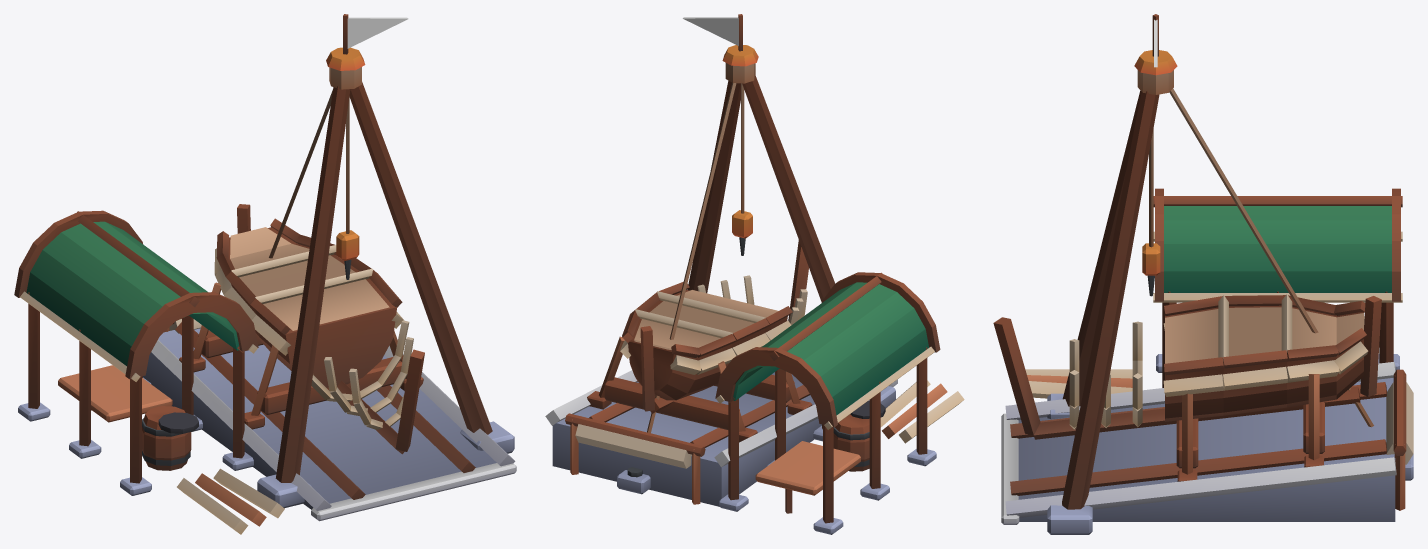
File: repairyard.glb
3 views of the same model, side by side, from view 1: azimuth 30°, elevation 25°; view 2: azimuth 150°, elevation 25°; view 3: azimuth 270°, elevation 25° (orthographic). The views are drawn at different scales.
Visible parts, largest first — view 1: body, flag; view 2: body, flag; view 3: body.
Part boxes in pixels (x1=…): body: x1=14, y1=14, x2=516, y2=534; flag: x1=347, y1=17, x2=408, y2=48; body: x1=545, y1=14, x2=964, y2=534; flag: x1=682, y1=17, x2=738, y2=45; body: x1=993, y1=14, x2=1413, y2=534.
Bounding box in the file's own units: 4.58 × 5.64 × 4.65.
